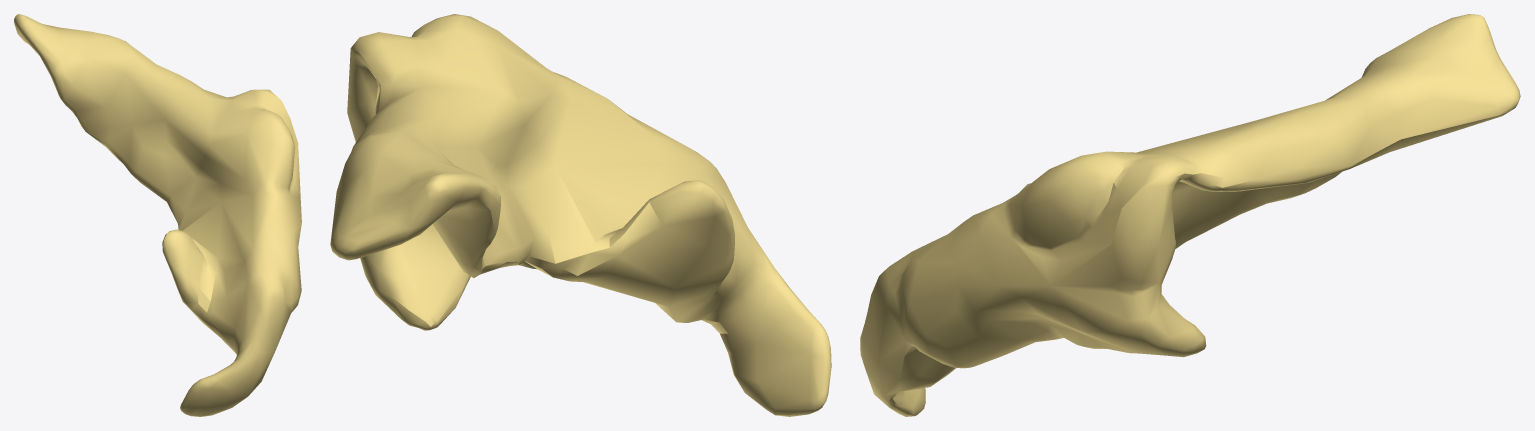
Rendered from fma72801_fj1837.glb.
The picture shows the model from 3 angles, left to right: view 1: azimuth 30°, elevation 25°; view 2: azimuth 150°, elevation 25°; view 3: azimuth 270°, elevation 25°; orthographic projection. The views are drawn at different scales.
Parts seen in each view (by area): view 1: FMA72801_FJ1837; view 2: FMA72801_FJ1837; view 3: FMA72801_FJ1837.
Boxes of the visible parts, x1=… form: FMA72801_FJ1837: x1=14, y1=14, x2=301, y2=416; FMA72801_FJ1837: x1=330, y1=14, x2=831, y2=416; FMA72801_FJ1837: x1=860, y1=14, x2=1520, y2=416.
Bounding box in the file's own units: 0.0358 × 0.0489 × 0.0738.
